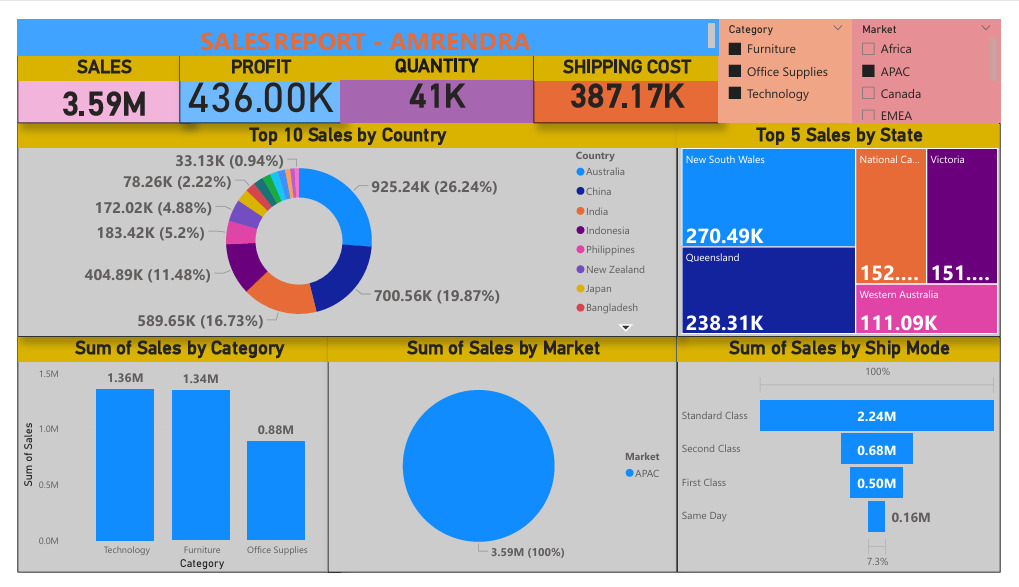

The page's visual inventory and layout, read from the dashboard file:
{"tool":"powerbi","page":{"name":" Sales Analysis Dashboard","canvas":[1280,720],"ordinal":0},"visuals":[{"type":"columnChart","fields":{"Category":["Orders.Category"],"Y":["Sum(Orders.Sales)"]},"box":[0,412.7,421.5,307.3],"z":0},{"type":"pieChart","fields":{"Category":["Orders.Market"],"Y":["Sum(Orders.Sales)"]},"box":[403.9,412.7,455.1,307.3],"z":1},{"type":"funnel","fields":{"Category":["Orders.Ship Mode"],"Y":["Sum(Orders.Sales)"]},"box":[859,412.7,421.5,307.3],"z":2},{"type":"donutChart","title":"Top 10 Sales by Country","fields":{"Category":["Orders.Country"],"Y":["Sum(Orders.Sales)"]},"box":[0,134.6,859,278],"z":3},{"type":"treemap","title":"Top 5 Sales by State","fields":{"Values":["Sum(Orders.Sales)"],"Group":["Orders.State"]},"box":[859,134.6,421.5,278],"z":4},{"type":"card","title":"SALES","fields":{"Values":["Sum(Orders.Sales)"]},"box":[0,46.8,225.4,87.8],"z":5},{"type":"card","title":"PROFIT","fields":{"Values":["Sum(Orders.Profit)"]},"box":[210.7,46.8,210.7,87.8],"z":6},{"type":"card","title":"QUANTITY","fields":{"Values":["Sum(Orders.Quantity)"]},"box":[421.5,46.8,250.2,87.8],"z":7},{"type":"card","title":"SHIPPING COST","fields":{"Values":["Sum(Orders.Shipping Cost)"]},"box":[671.7,46.8,241.5,87.8],"z":8},{"type":"slicer","fields":{"Values":["Orders.Category"]},"box":[913.2,0,174.1,134.6],"z":9},{"type":"slicer","fields":{"Values":["Orders.Market"]},"box":[1087.3,0,193.2,134.6],"z":10},{"type":"textbox","box":[0,0,913.2,46.8],"z":11}]}

Visuals, with their boxes in screenshot pixels (x1, y1, x2, y2), scaled from the page's 1280x720 canvas onto the 1019x587 screenshot:
columnChart - Orders.Category x Sum(Orders.Sales): BBox(0, 336, 336, 586)
pieChart - Orders.Market x Sum(Orders.Sales): BBox(322, 336, 684, 586)
funnel - Orders.Ship Mode x Sum(Orders.Sales): BBox(684, 336, 1018, 586)
"Top 10 Sales by Country" donutChart: BBox(0, 110, 684, 336)
"Top 5 Sales by State" treemap: BBox(684, 110, 1018, 336)
"SALES" card: BBox(0, 38, 179, 110)
"PROFIT" card: BBox(168, 38, 335, 110)
"QUANTITY" card: BBox(336, 38, 535, 110)
"SHIPPING COST" card: BBox(535, 38, 727, 110)
slicer - Orders.Category: BBox(727, 0, 866, 110)
slicer - Orders.Market: BBox(866, 0, 1018, 110)
textbox: BBox(0, 0, 727, 38)
